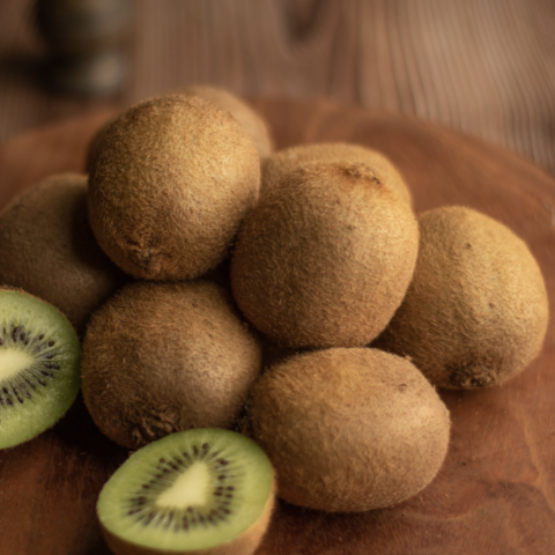kiwi: (217, 346, 471, 508), (208, 154, 425, 343), (56, 275, 267, 458), (69, 84, 264, 274), (379, 203, 551, 409)
